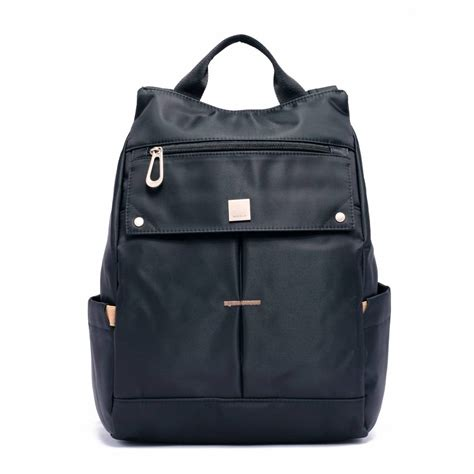nylon: (90, 34, 392, 445)
